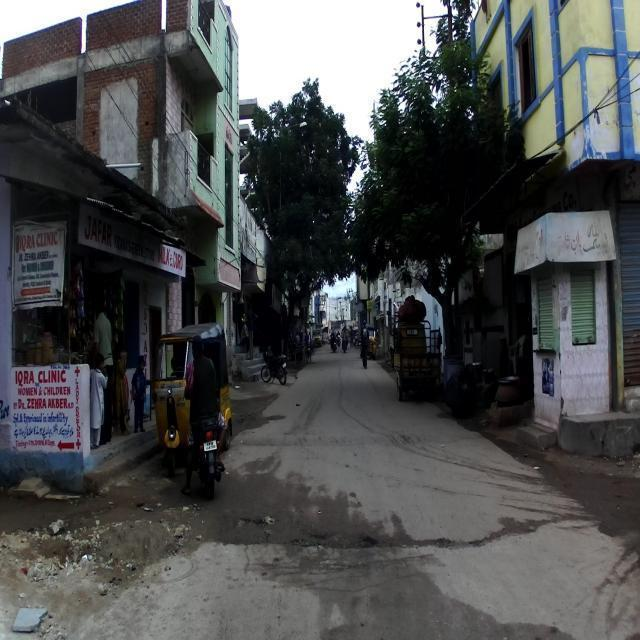Pothole: (19, 518, 184, 590)
